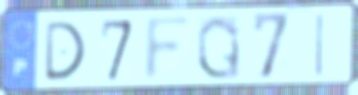7: (251, 10, 291, 82), (99, 18, 135, 82)
D: (42, 19, 88, 84)
F: (141, 13, 196, 84)
I: (313, 11, 327, 79)
Q: (195, 12, 243, 82)
